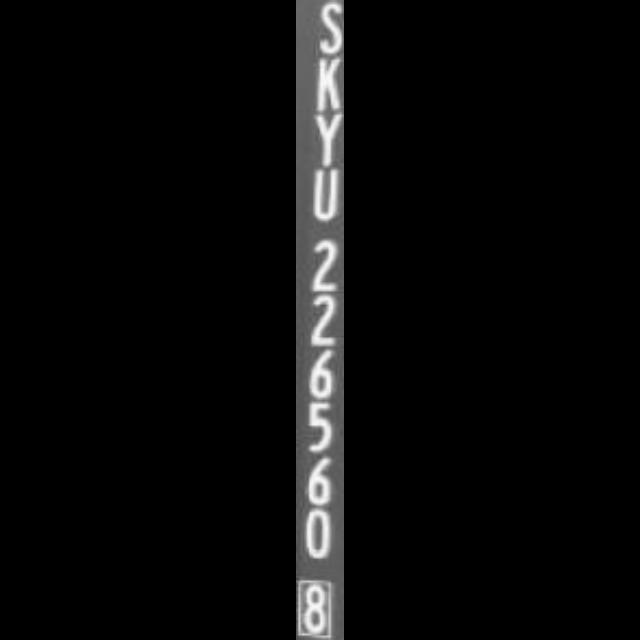0: (296, 504, 344, 560)
2: (304, 232, 344, 294), (304, 290, 344, 348)
5: (296, 394, 344, 456)
6: (298, 452, 344, 508), (302, 346, 344, 398)
8: (296, 574, 336, 636)
k: (307, 54, 345, 110)
s: (308, 0, 344, 56)
u: (304, 166, 344, 228)
y: (304, 109, 344, 170)
